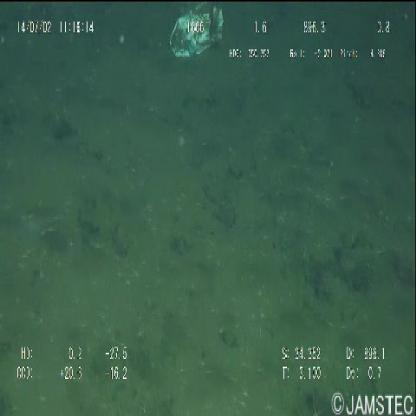Rác: (170, 2, 224, 60)
